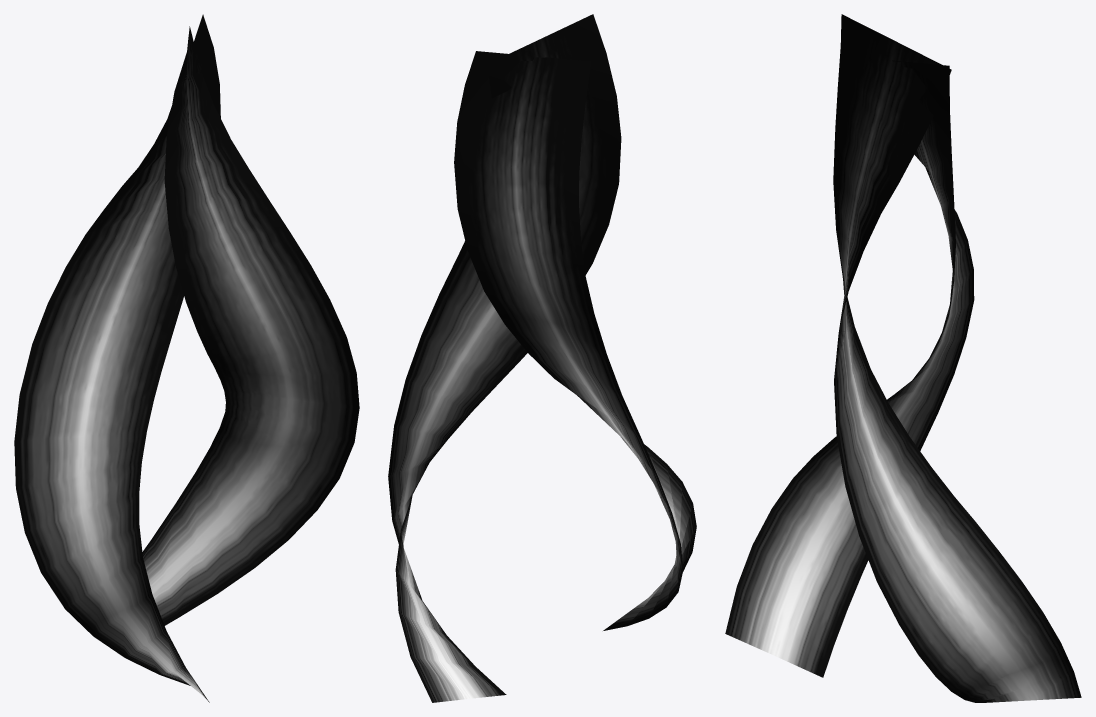
Rendered from EEEE.FBX.
3 views of the same model, side by side, from view 1: azimuth 30°, elevation 25°; view 2: azimuth 150°, elevation 25°; view 3: azimuth 270°, elevation 25° (orthographic). The views are drawn at different scales.
Parts seen in each view (by area): view 1: Plane001; view 2: Plane001; view 3: Plane001.
Part boxes in pixels (x1,y1,x2,y2): Plane001: (14, 14, 359, 702); Plane001: (388, 14, 696, 702); Plane001: (725, 14, 1081, 702).
Size of the model in its own units: 74.57 by 148 by 70.44.
